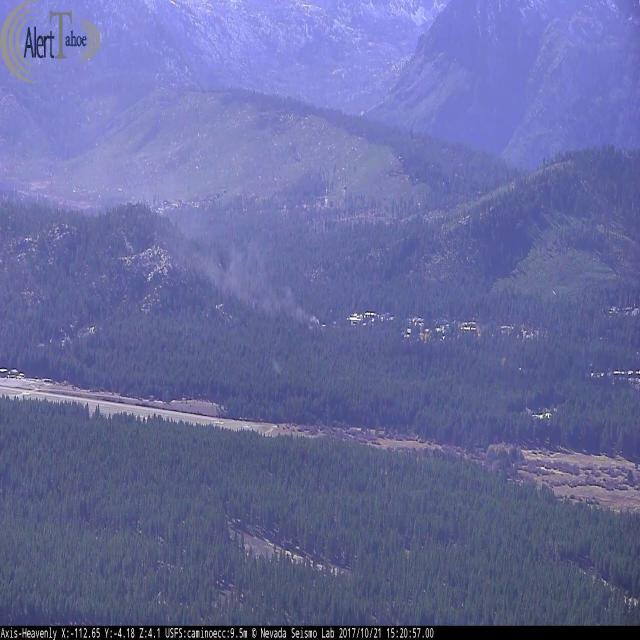smoke: (116, 113, 326, 343)
